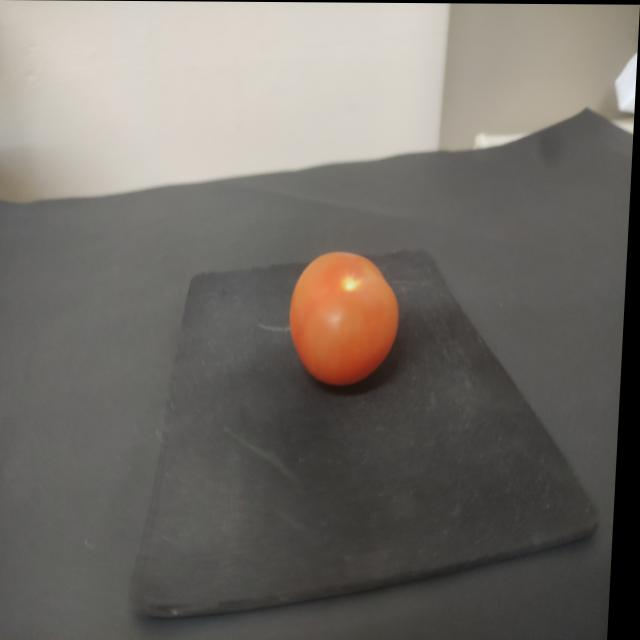sari: (276, 236, 415, 398)
